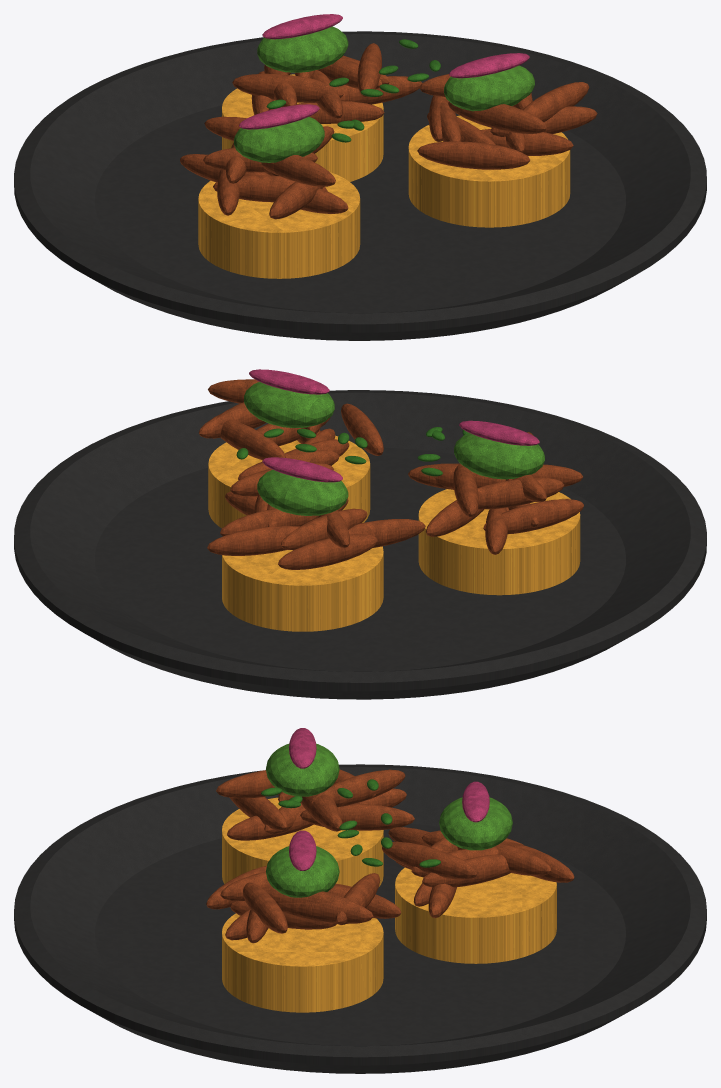
File: mini-arepas.glb
The picture shows the model from 3 angles, top to bottom: view 1: azimuth 30°, elevation 25°; view 2: azimuth 150°, elevation 25°; view 3: azimuth 270°, elevation 25°; orthographic projection.
Parts seen in each view (by area): view 1: part0, part2, part1, part3, part4, part5; view 2: part0, part1, part2, part3, part4, part5; view 3: part0, part1, part2, part3, part4, part5.
Part boxes in pixels (box(x1,y1,x2,y2)): part0: box(14, 31, 706, 340); part2: box(180, 43, 597, 219); part1: box(198, 74, 570, 278); part3: box(234, 26, 534, 162); part4: box(239, 14, 529, 129); part5: box(266, 39, 440, 142); part0: box(14, 390, 706, 699); part1: box(208, 435, 580, 631); part2: box(198, 379, 583, 569); part3: box(244, 382, 544, 515); part4: box(249, 369, 539, 482); part5: box(236, 427, 468, 476); part0: box(14, 764, 706, 1073); part1: box(222, 797, 556, 1012); part2: box(206, 769, 574, 943); part3: box(266, 743, 512, 897); part4: box(289, 728, 489, 870); part5: box(261, 779, 440, 867).
Bounding box in the file's own units: 0.3 × 0.078 × 0.3.
6 materials, 6 textured.
